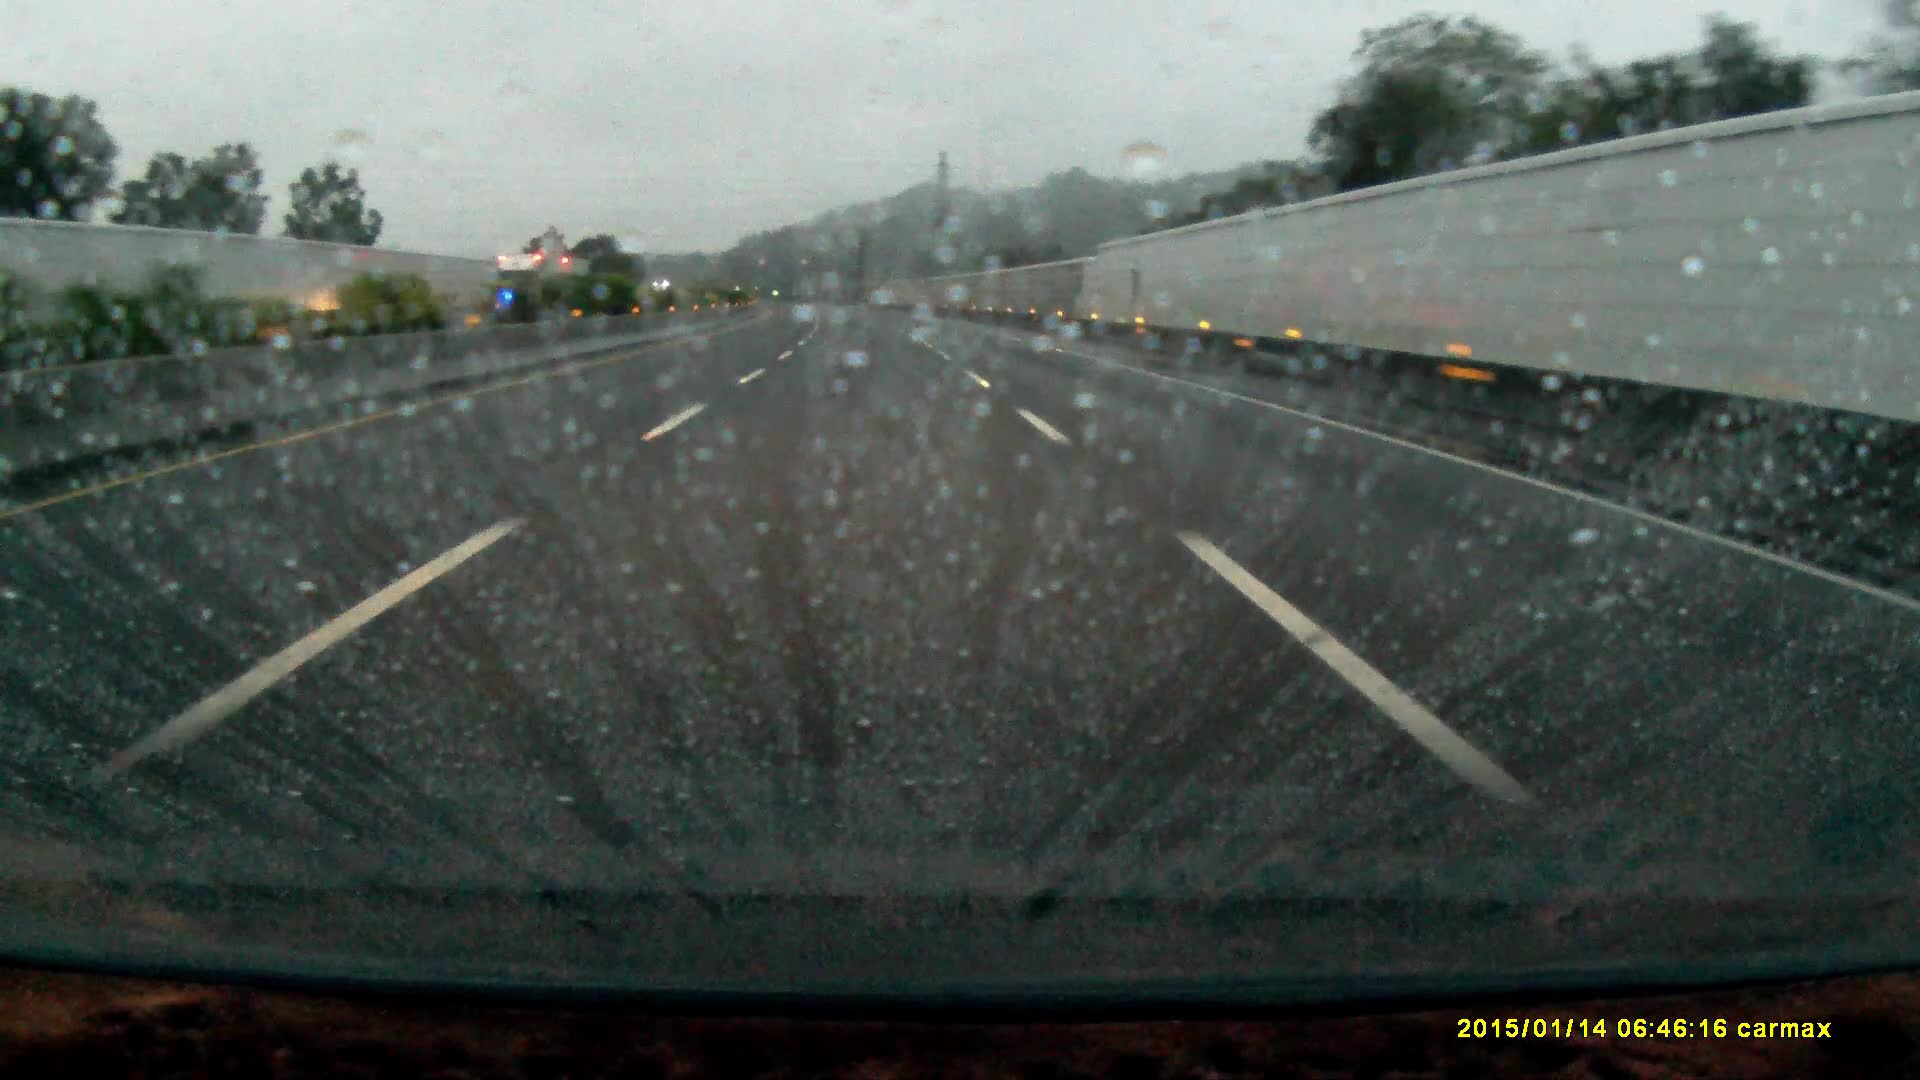vehicle: (487, 251, 588, 313)
